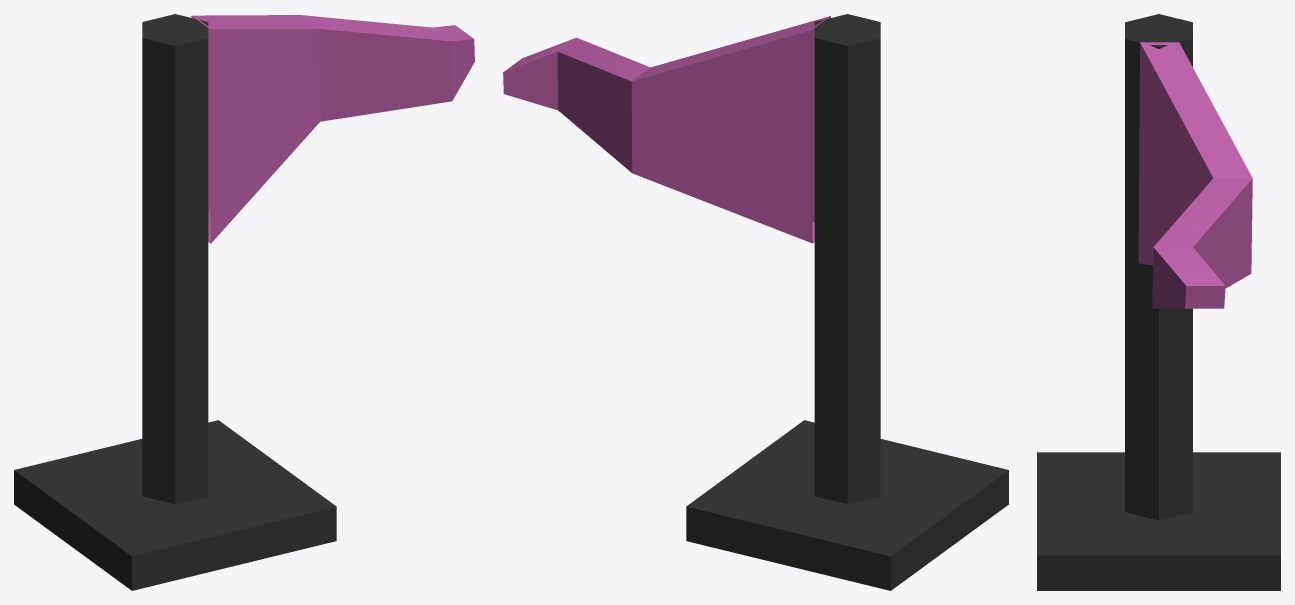
Rendered from bandeira.fbx.
The picture shows the model from 3 angles, left to right: view 1: azimuth 30°, elevation 25°; view 2: azimuth 150°, elevation 25°; view 3: azimuth 270°, elevation 25°; orthographic projection. The views are drawn at different scales.
Visible parts, largest first — view 1: pCube2; view 2: pCube2; view 3: pCube2.
Part boxes in pixels (x1=…): pCube2: x1=14, y1=14, x2=474, y2=590; pCube2: x1=503, y1=14, x2=1008, y2=590; pCube2: x1=1037, y1=14, x2=1280, y2=590.
Size of the model in its own units: 12.57 by 14.31 by 6.2.
